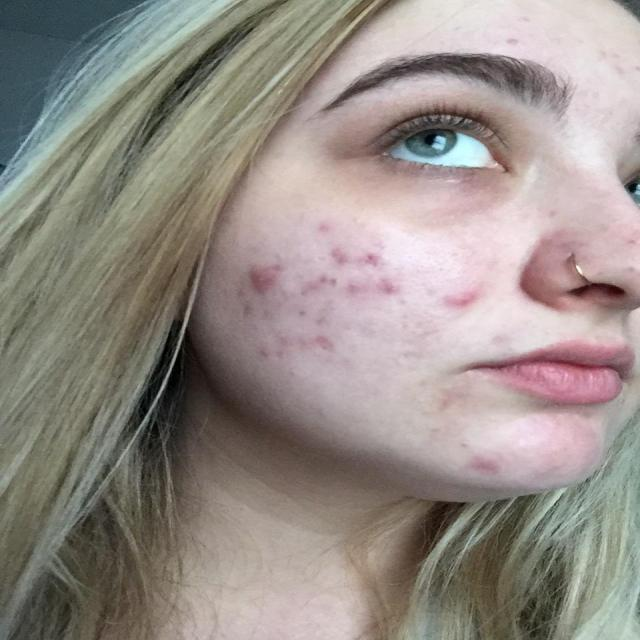Acne: (228, 300, 362, 364), (311, 212, 406, 302), (434, 272, 502, 322), (583, 35, 632, 95), (473, 438, 528, 476), (242, 258, 288, 296), (497, 25, 534, 62), (428, 382, 458, 416)
